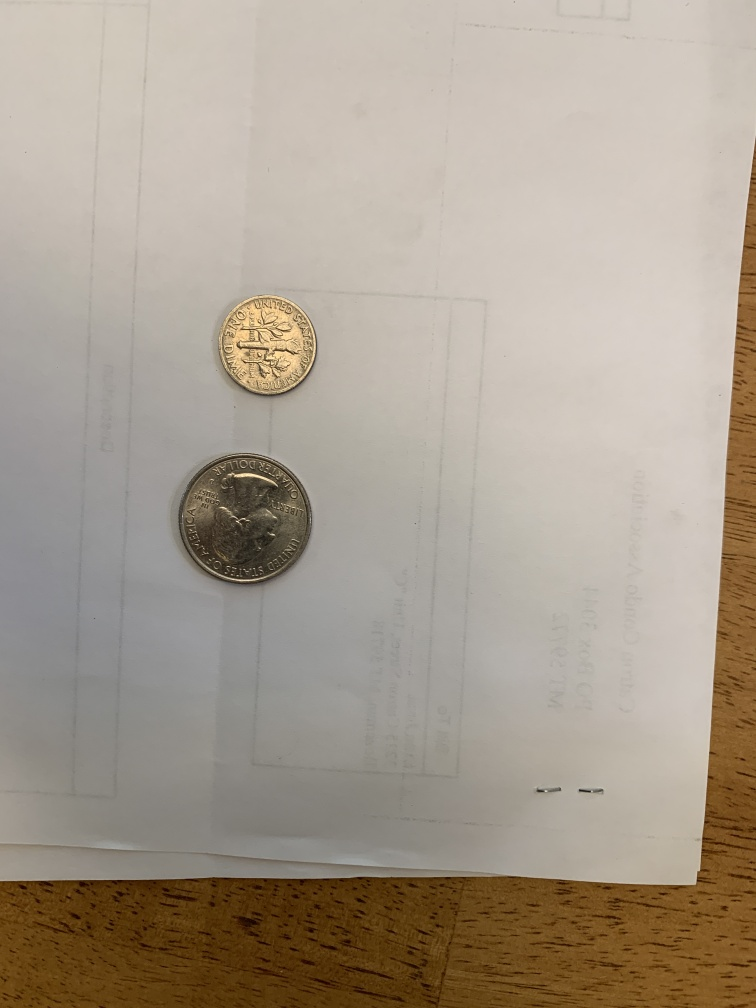dime: (212, 291, 320, 401)
quarter: (172, 445, 317, 598)
